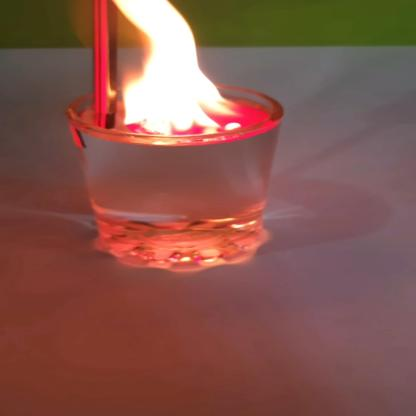Fire: (84, 0, 251, 142)
